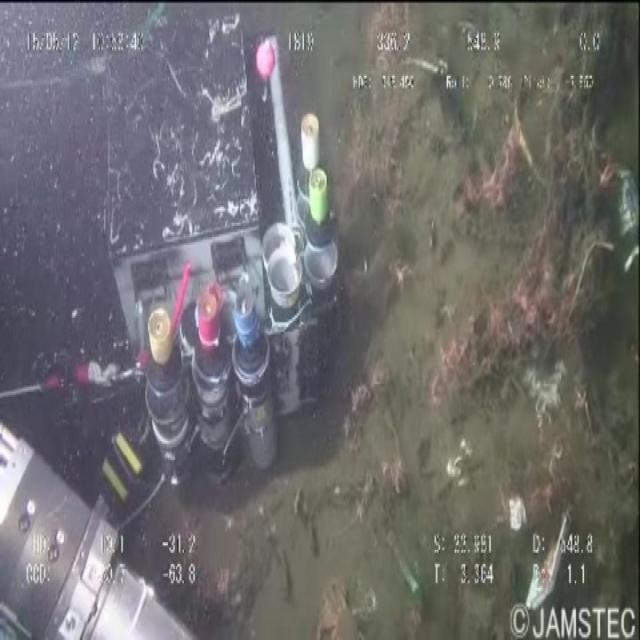Litter: (516, 485, 582, 618), (597, 131, 640, 298)
Rope: (346, 65, 590, 439)
